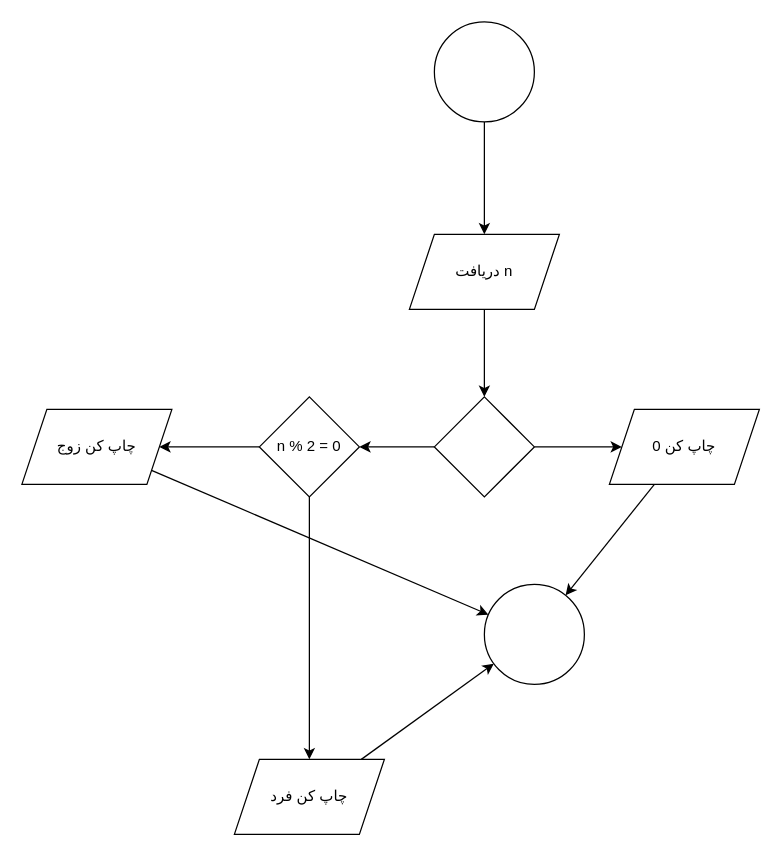
This 781x856 diagram has some shape labels left out. Each missing label, with the centre of its shape:
"if n = 0" goes at point (483, 446).
"شروع" goes at point (483, 71).
"پایان" goes at point (533, 633).
